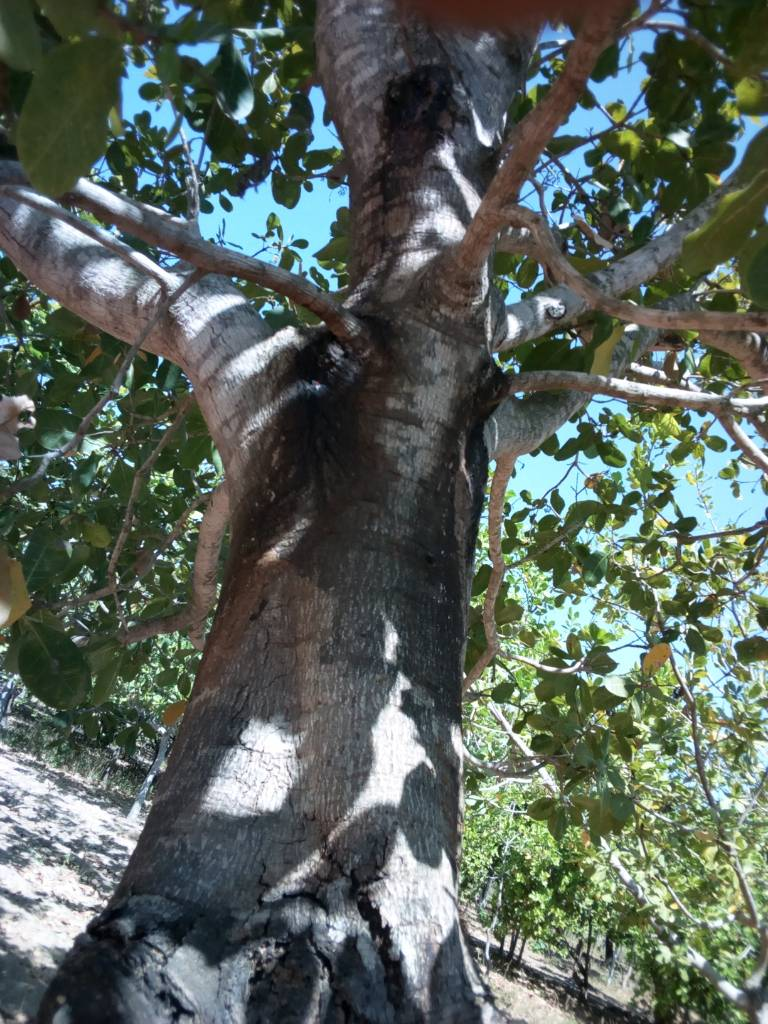Gommose: (397, 358, 494, 736), (247, 335, 360, 539), (386, 63, 443, 178)
